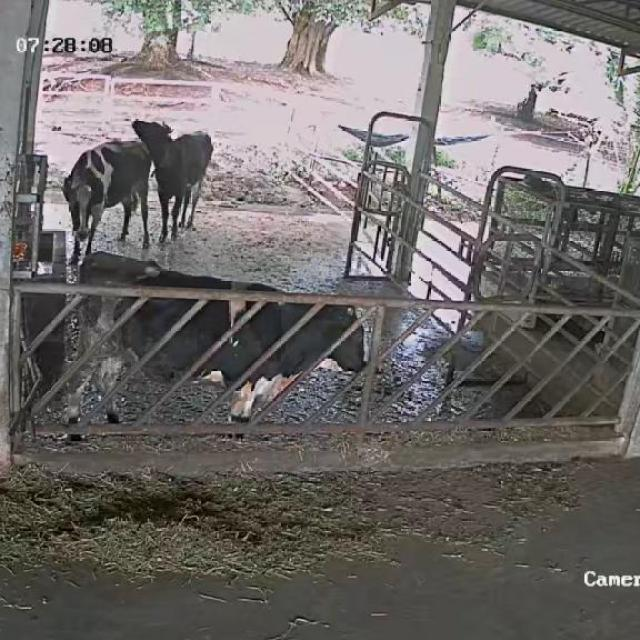standing: (67, 246, 384, 438), (66, 136, 154, 256)
